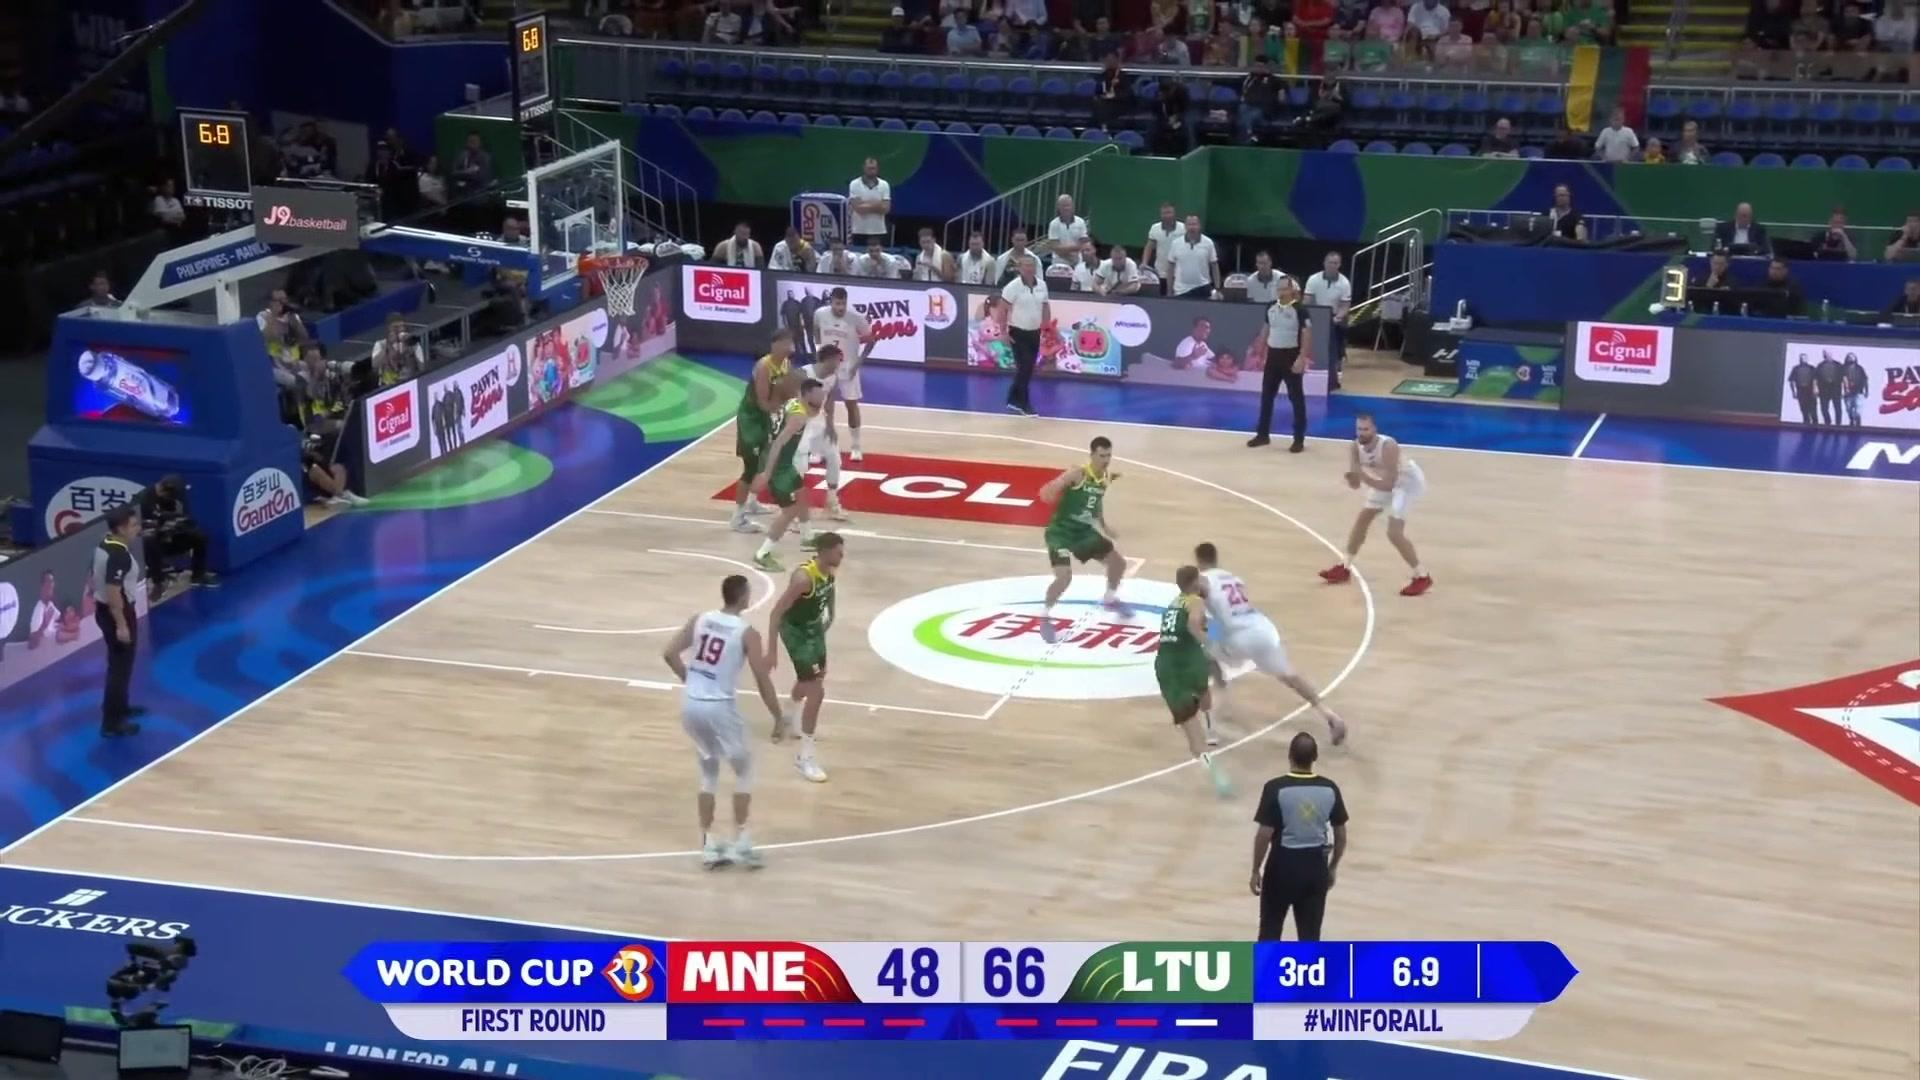foul: (1127, 524, 1368, 773)
